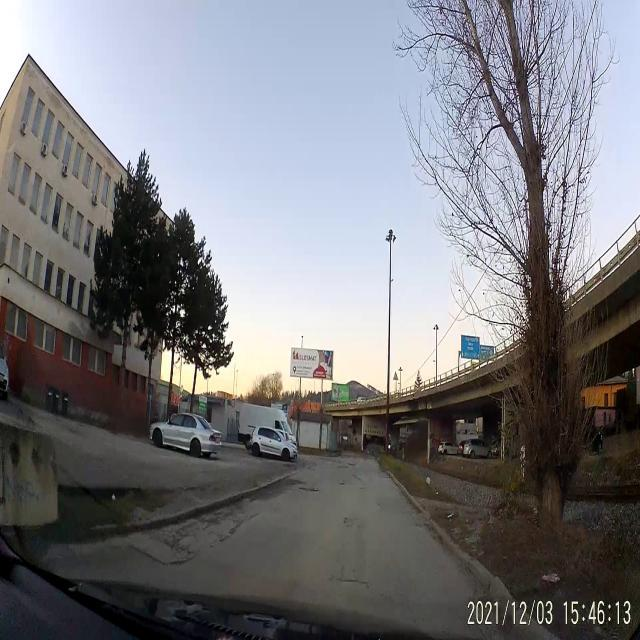Pothole: (139, 540, 191, 566), (298, 483, 322, 492)
